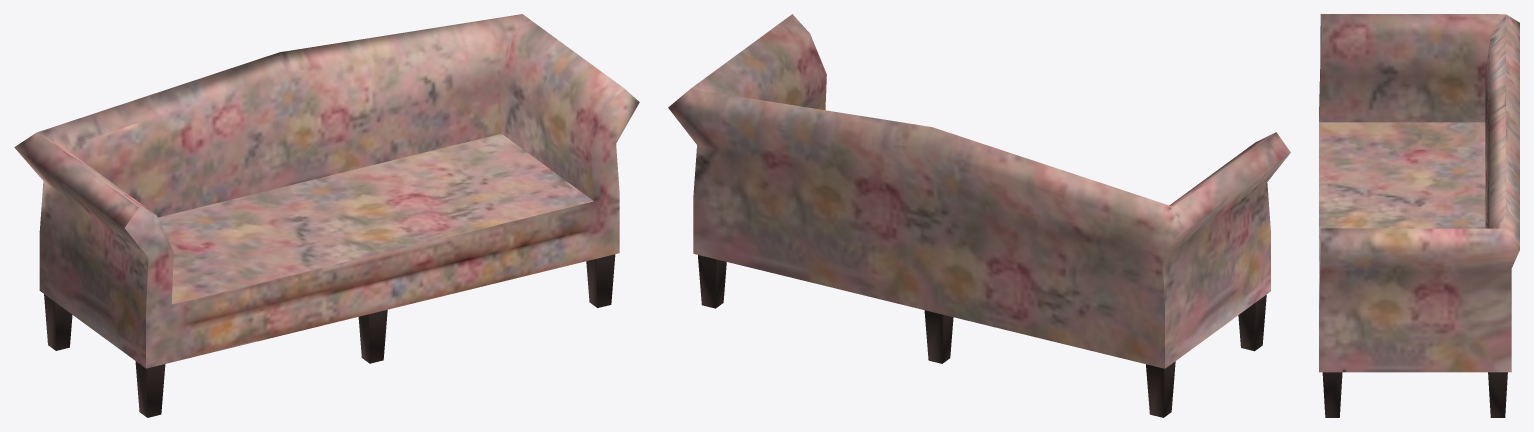
File: Armchair_06-col.glb
The picture shows the model from 3 angles, left to right: view 1: azimuth 30°, elevation 25°; view 2: azimuth 150°, elevation 25°; view 3: azimuth 270°, elevation 25°; orthographic projection. The views are drawn at different scales.
Parts seen in each view (by area): view 1: Armchair_06-col; view 2: Armchair_06-col; view 3: Armchair_06-col.
Part boxes in pixels (x1,y1,x2,y2): Armchair_06-col: [14, 14, 639, 417]; Armchair_06-col: [668, 14, 1290, 417]; Armchair_06-col: [1319, 14, 1519, 417].
Bounding box in the file's own units: 2.5 × 1.09 × 0.932.
1 material, 1 textured.
